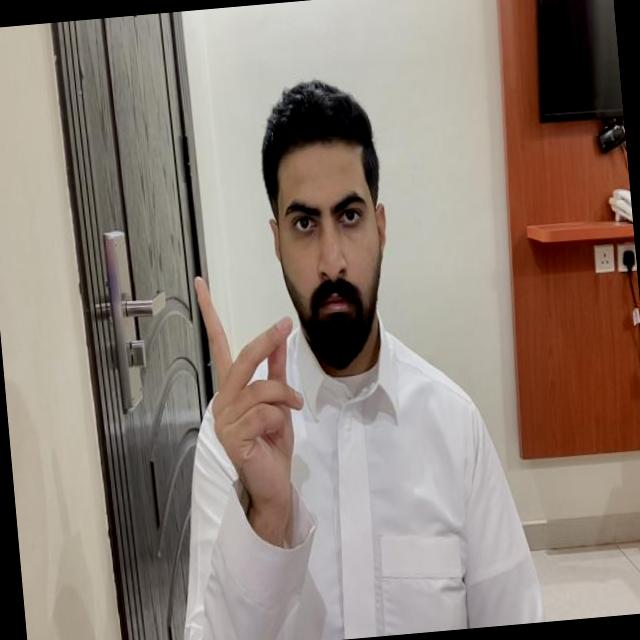emergency: (190, 266, 314, 544)
